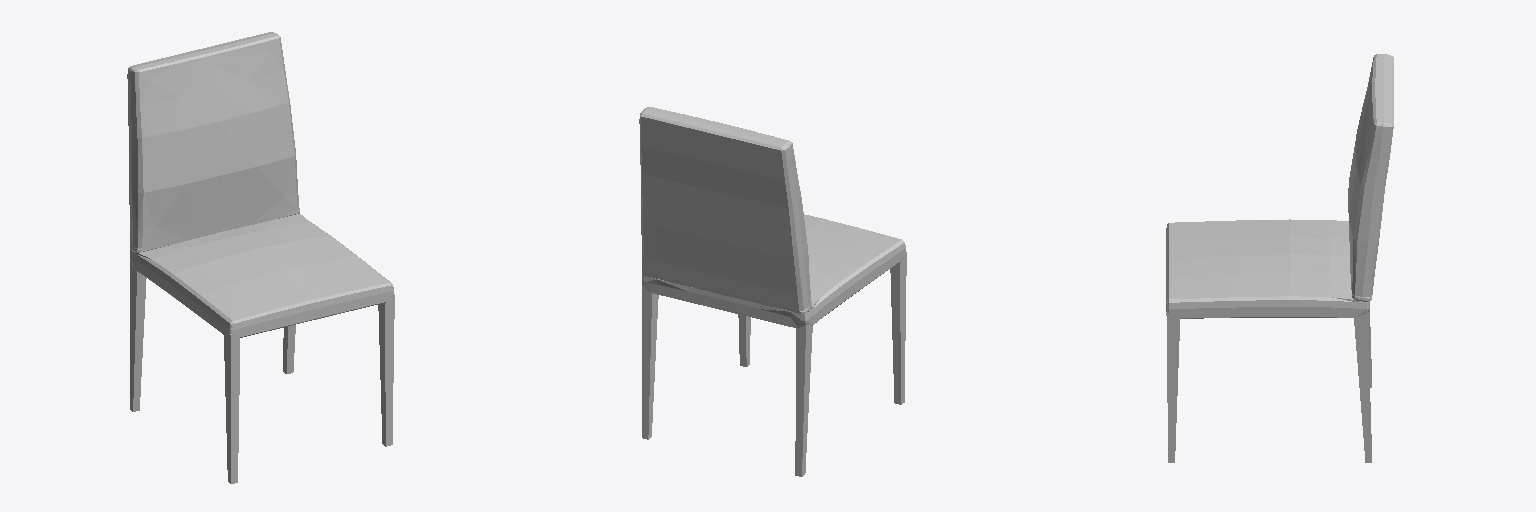
The model's file is IKEA-Henriksdal_Chair_Red-3D.obj.
3 renders of one model, left to right at view 1: azimuth 30°, elevation 25°; view 2: azimuth 150°, elevation 25°; view 3: azimuth 270°, elevation 25°, orthographic.
Visible parts, largest first — view 1: Box02; view 2: Box02; view 3: Box02.
Boxes of the visible parts, x1,y1,x2,y2 form: Box02: [127, 32, 394, 483]; Box02: [639, 107, 906, 476]; Box02: [1166, 54, 1393, 462].
Bounding box in the file's own units: 49.58 × 96.25 × 59.21.